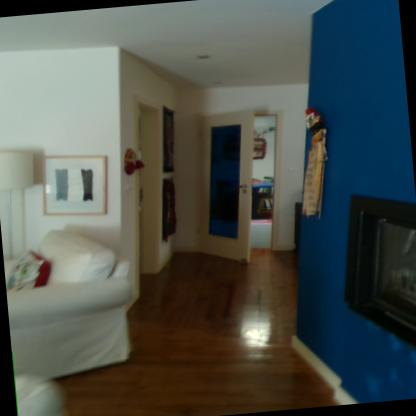semi: (196, 100, 294, 250)
